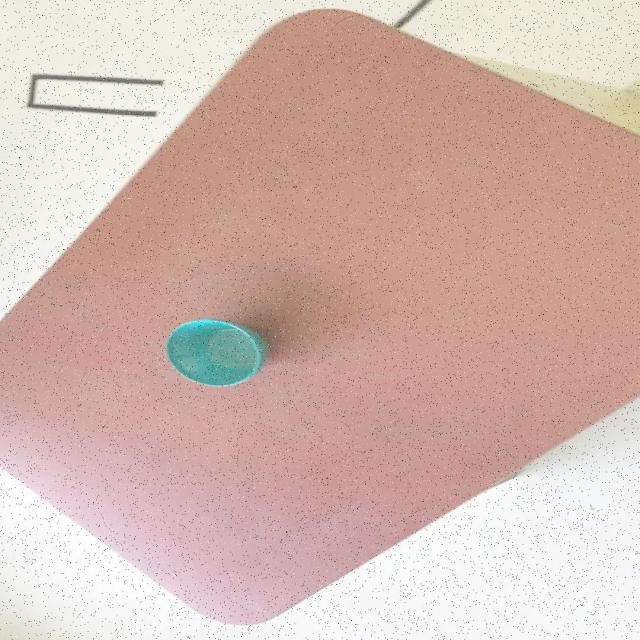Bowl: (0, 6, 640, 626), (165, 318, 271, 388)
